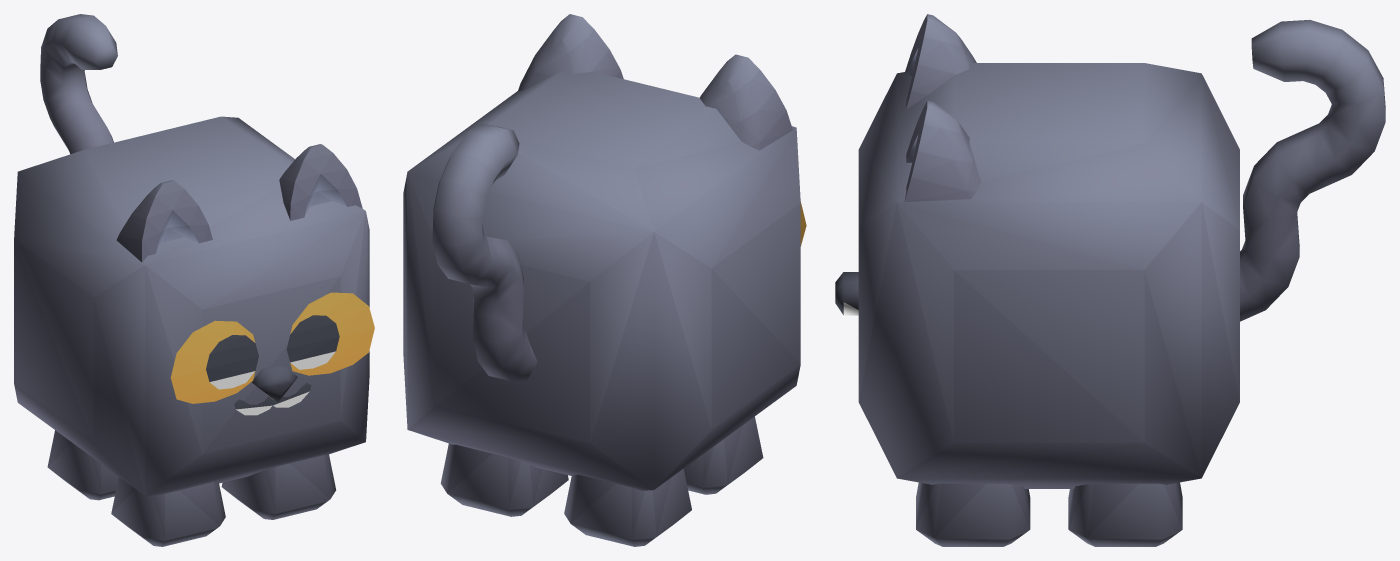
The model's file is animal-cat.obj.
3 renders of one model, left to right at view 1: azimuth 30°, elevation 25°; view 2: azimuth 150°, elevation 25°; view 3: azimuth 270°, elevation 25°, orthographic. The views are drawn at different scales.
Bounding box in the file's own units: 1.25 × 1.71 × 1.81.
